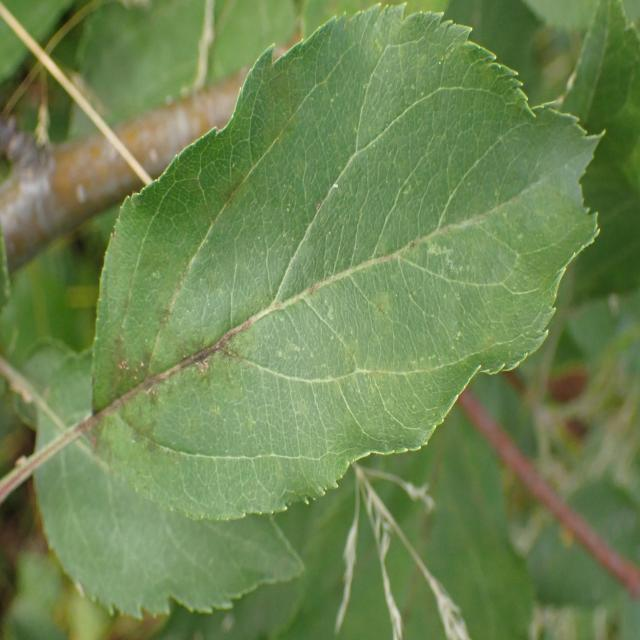scab: (70, 68, 590, 484)
